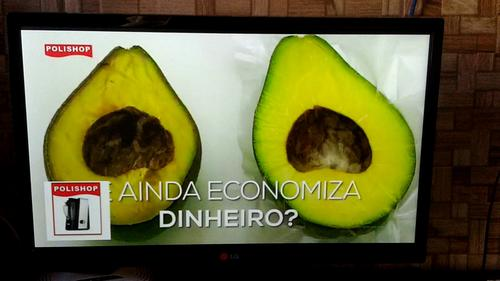Polishop #1: (43, 179, 111, 240)
